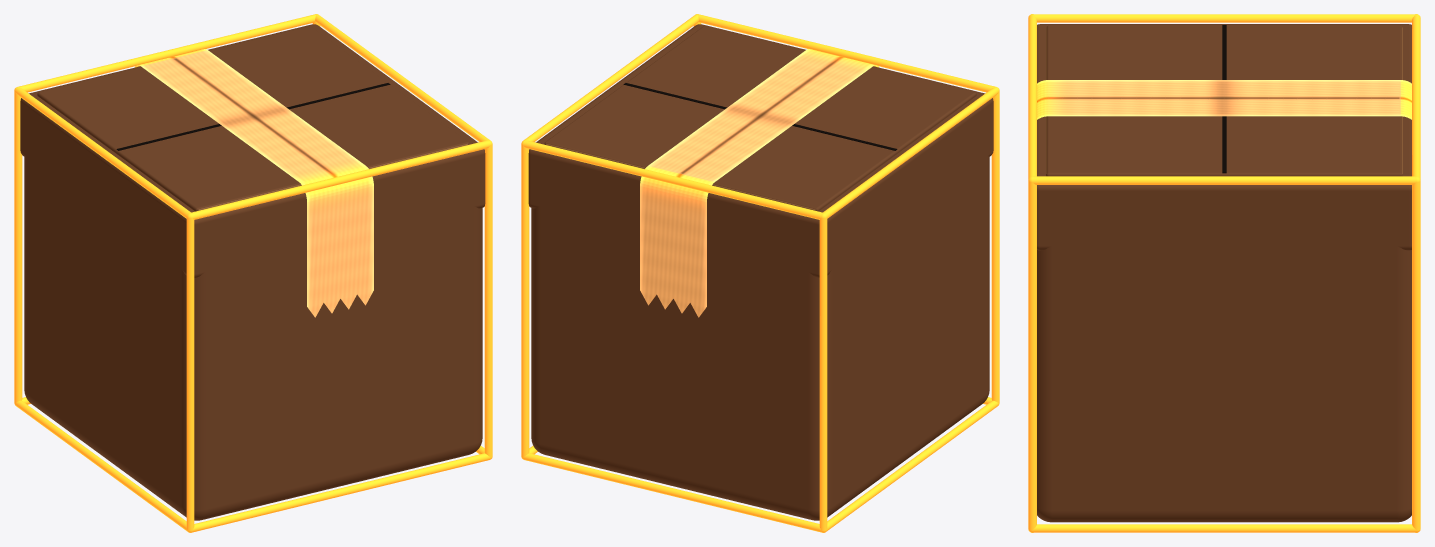
The model's file is ship.glb.
The picture shows the model from 3 angles, left to right: view 1: azimuth 30°, elevation 25°; view 2: azimuth 150°, elevation 25°; view 3: azimuth 270°, elevation 25°; orthographic projection. The views are drawn at different scales.
Visible parts, largest first — view 1: parcel_body, edge_inlay, flap_left, flap_right, tape_top, tape_front; view 2: parcel_body, edge_inlay, flap_left, flap_right, tape_top, tape_back; view 3: parcel_body, flap_right, flap_left, edge_inlay, tape_top.
Boxes of the visible parts, <box> form: parcel_body: <box>20,24,485,520</box>; edge_inlay: <box>14,14,492,532</box>; flap_left: <box>37,67,301,211</box>; flap_right: <box>209,26,469,168</box>; tape_top: <box>141,50,365,181</box>; tape_front: <box>299,166,373,317</box>; parcel_body: <box>528,24,993,520</box>; edge_inlay: <box>521,14,999,532</box>; flap_left: <box>712,67,976,211</box>; flap_right: <box>544,26,804,168</box>; tape_top: <box>648,50,872,181</box>; tape_back: <box>640,166,714,317</box>; parcel_body: <box>1037,24,1411,522</box>; flap_right: <box>1046,116,1402,176</box>; flap_left: <box>1046,25,1402,79</box>; edge_inlay: <box>1028,14,1420,532</box>; tape_top: <box>1048,80,1400,116</box>.
Size of the model in its own units: 1.96 by 1.96 by 1.96.
5 materials, 1 textured.
